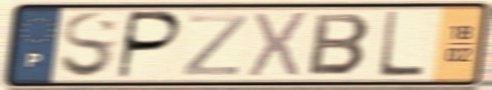B: (304, 11, 374, 78)
L: (375, 9, 427, 80)
P: (114, 9, 185, 82)
S: (57, 9, 121, 81)
X: (244, 10, 311, 81)
Z: (179, 12, 251, 77)
